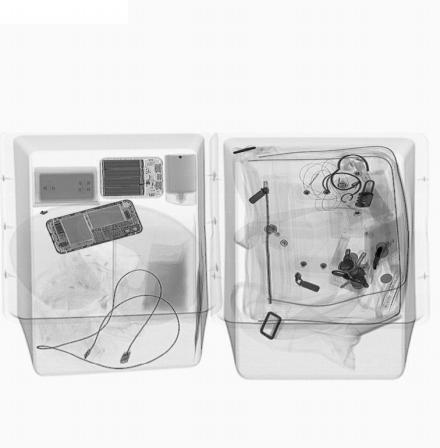Powerbank: (100, 156, 166, 201)
